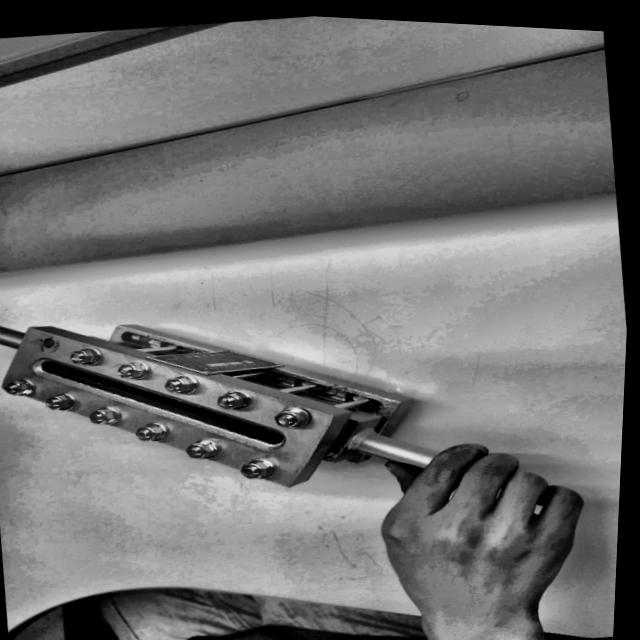ShuiWeiQi_11: (0, 248, 409, 535)
